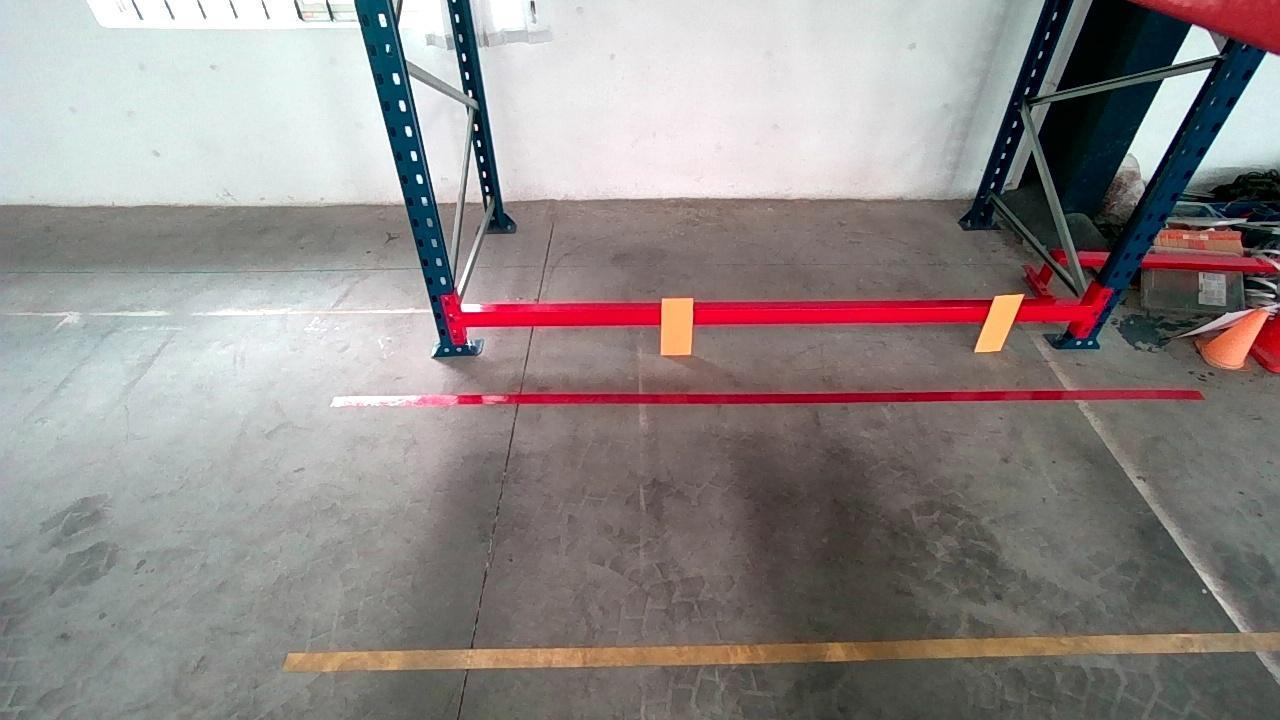h_rack: (460, 305, 1090, 324)
orange_strip: (976, 294, 1027, 351), (661, 296, 693, 353)
red_line: (330, 389, 1201, 407)
yellow_line: (287, 629, 1280, 676)
